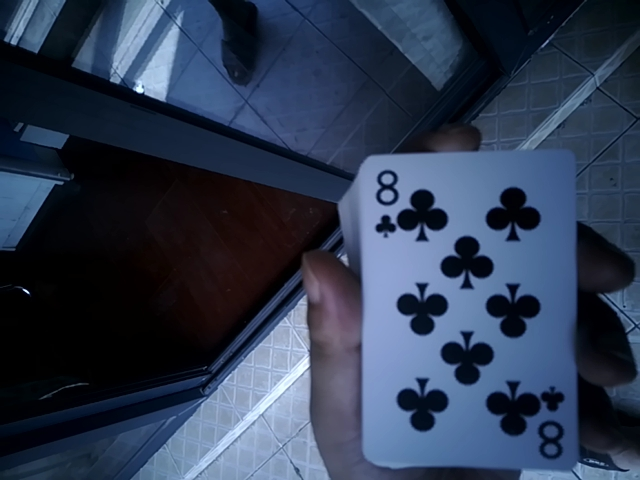mh 8: (341, 150, 630, 480)
